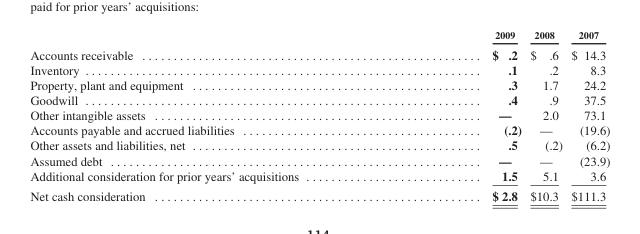table: (29, 28, 609, 202)
table column: (29, 28, 394, 202), (394, 28, 525, 202), (566, 28, 609, 202), (525, 28, 566, 202)
table column header: (29, 28, 609, 43)
table row: (29, 43, 609, 61), (29, 167, 609, 185), (29, 185, 609, 202), (29, 91, 609, 107), (29, 28, 609, 43), (29, 61, 609, 76), (29, 76, 609, 91), (29, 107, 609, 122), (29, 122, 609, 137), (29, 137, 609, 152), (29, 152, 609, 167)
